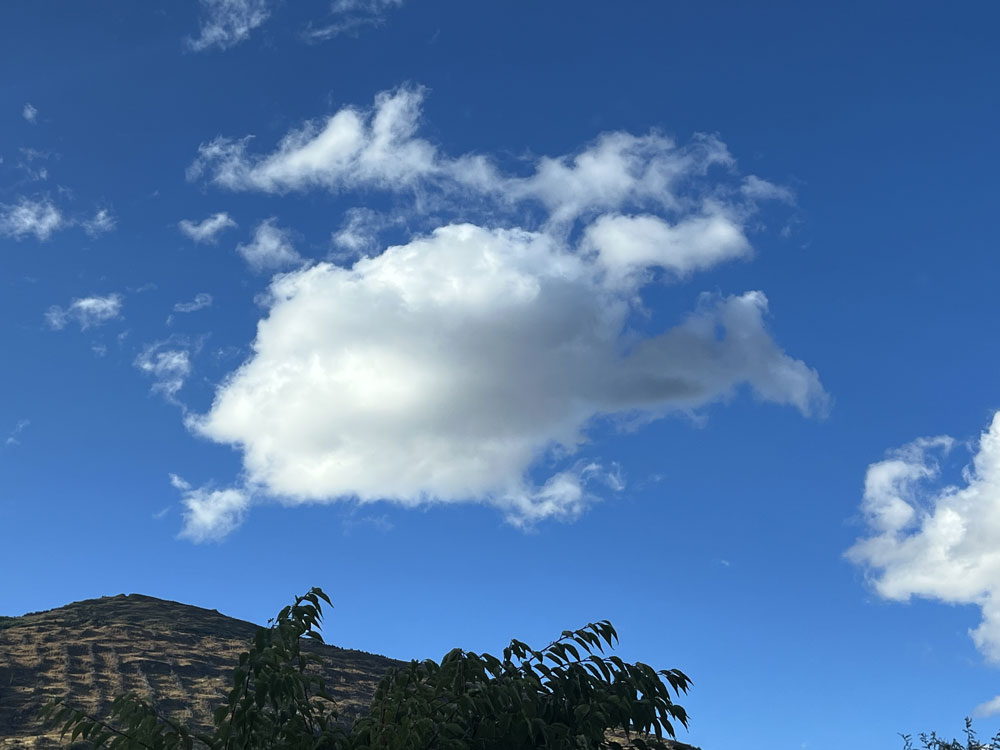Cumulus: (152, 101, 829, 548)
